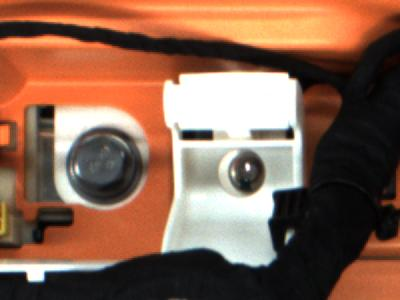nut_b: (59, 124, 143, 206)
